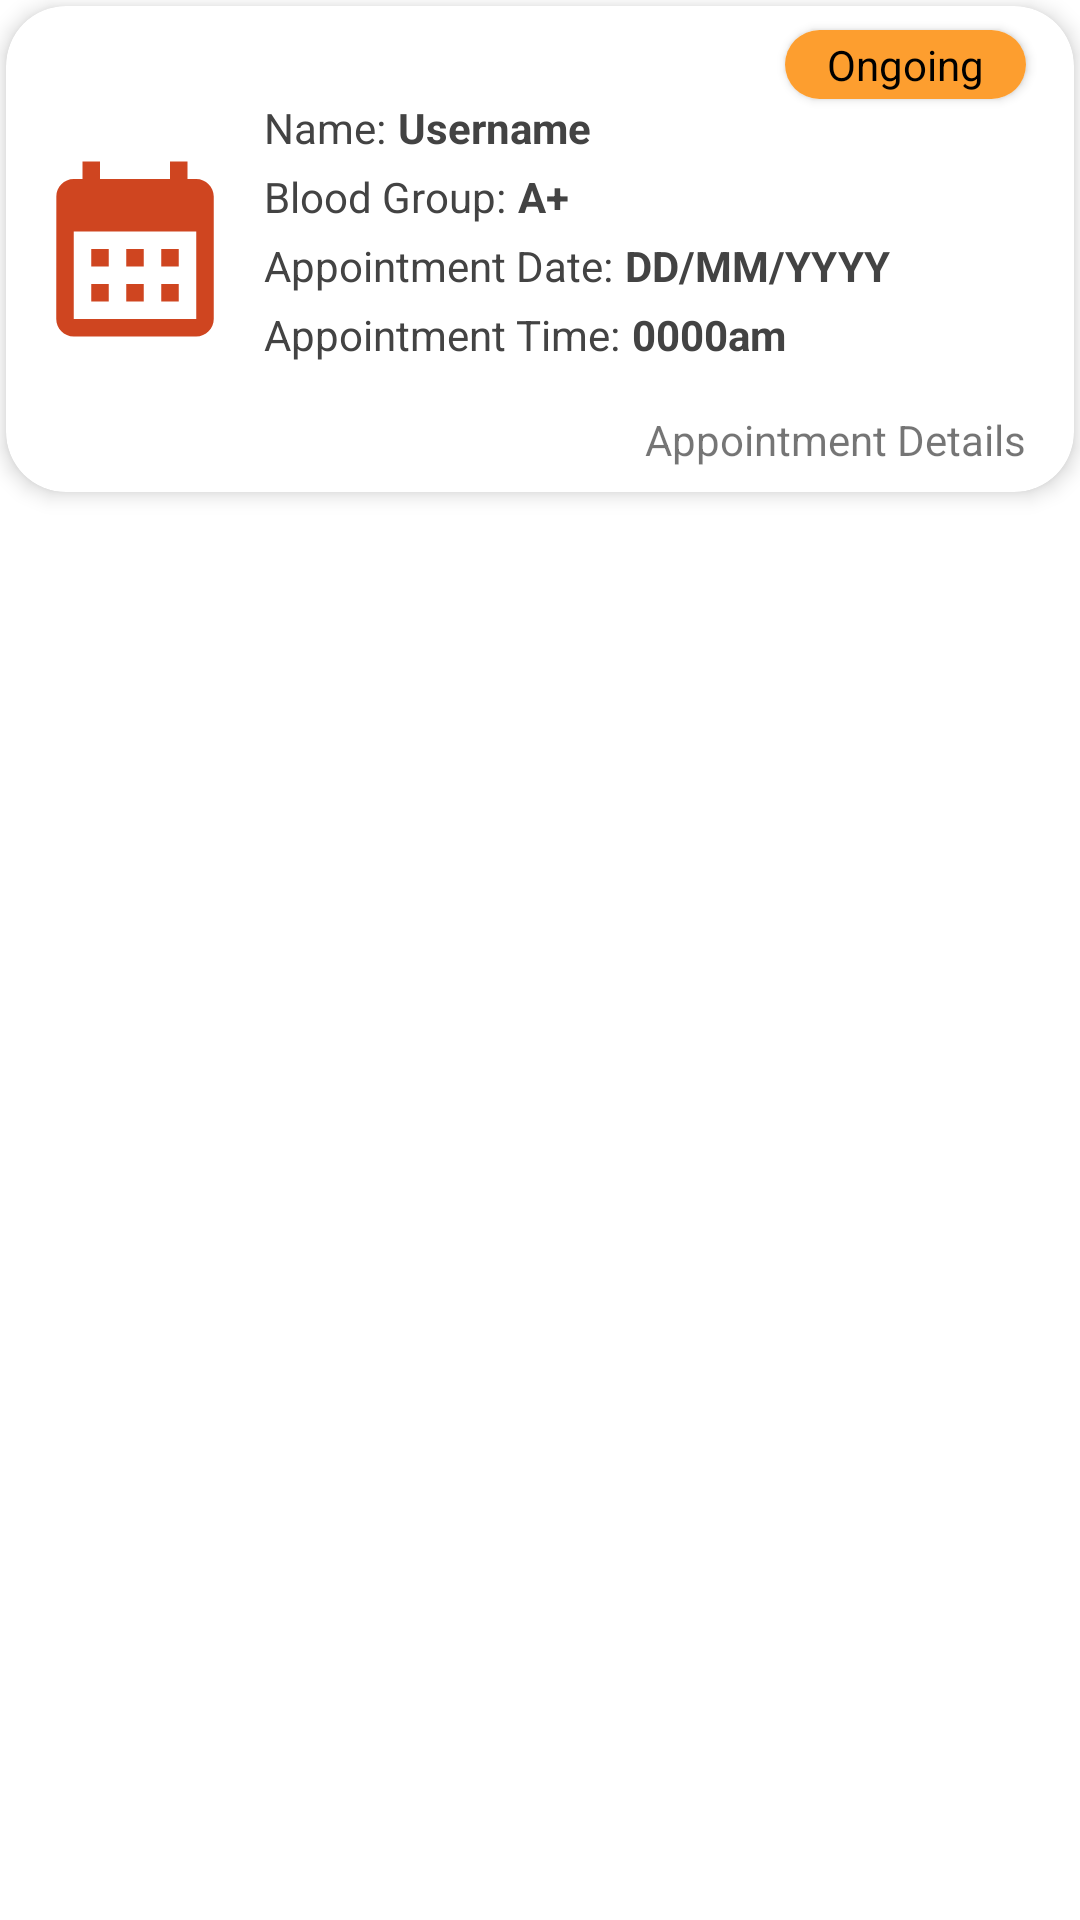

Screen size 1080px x 1920px. Icon name, then its center in pixels as (x=x, y=y):
calendar: (x=135, y=249)
